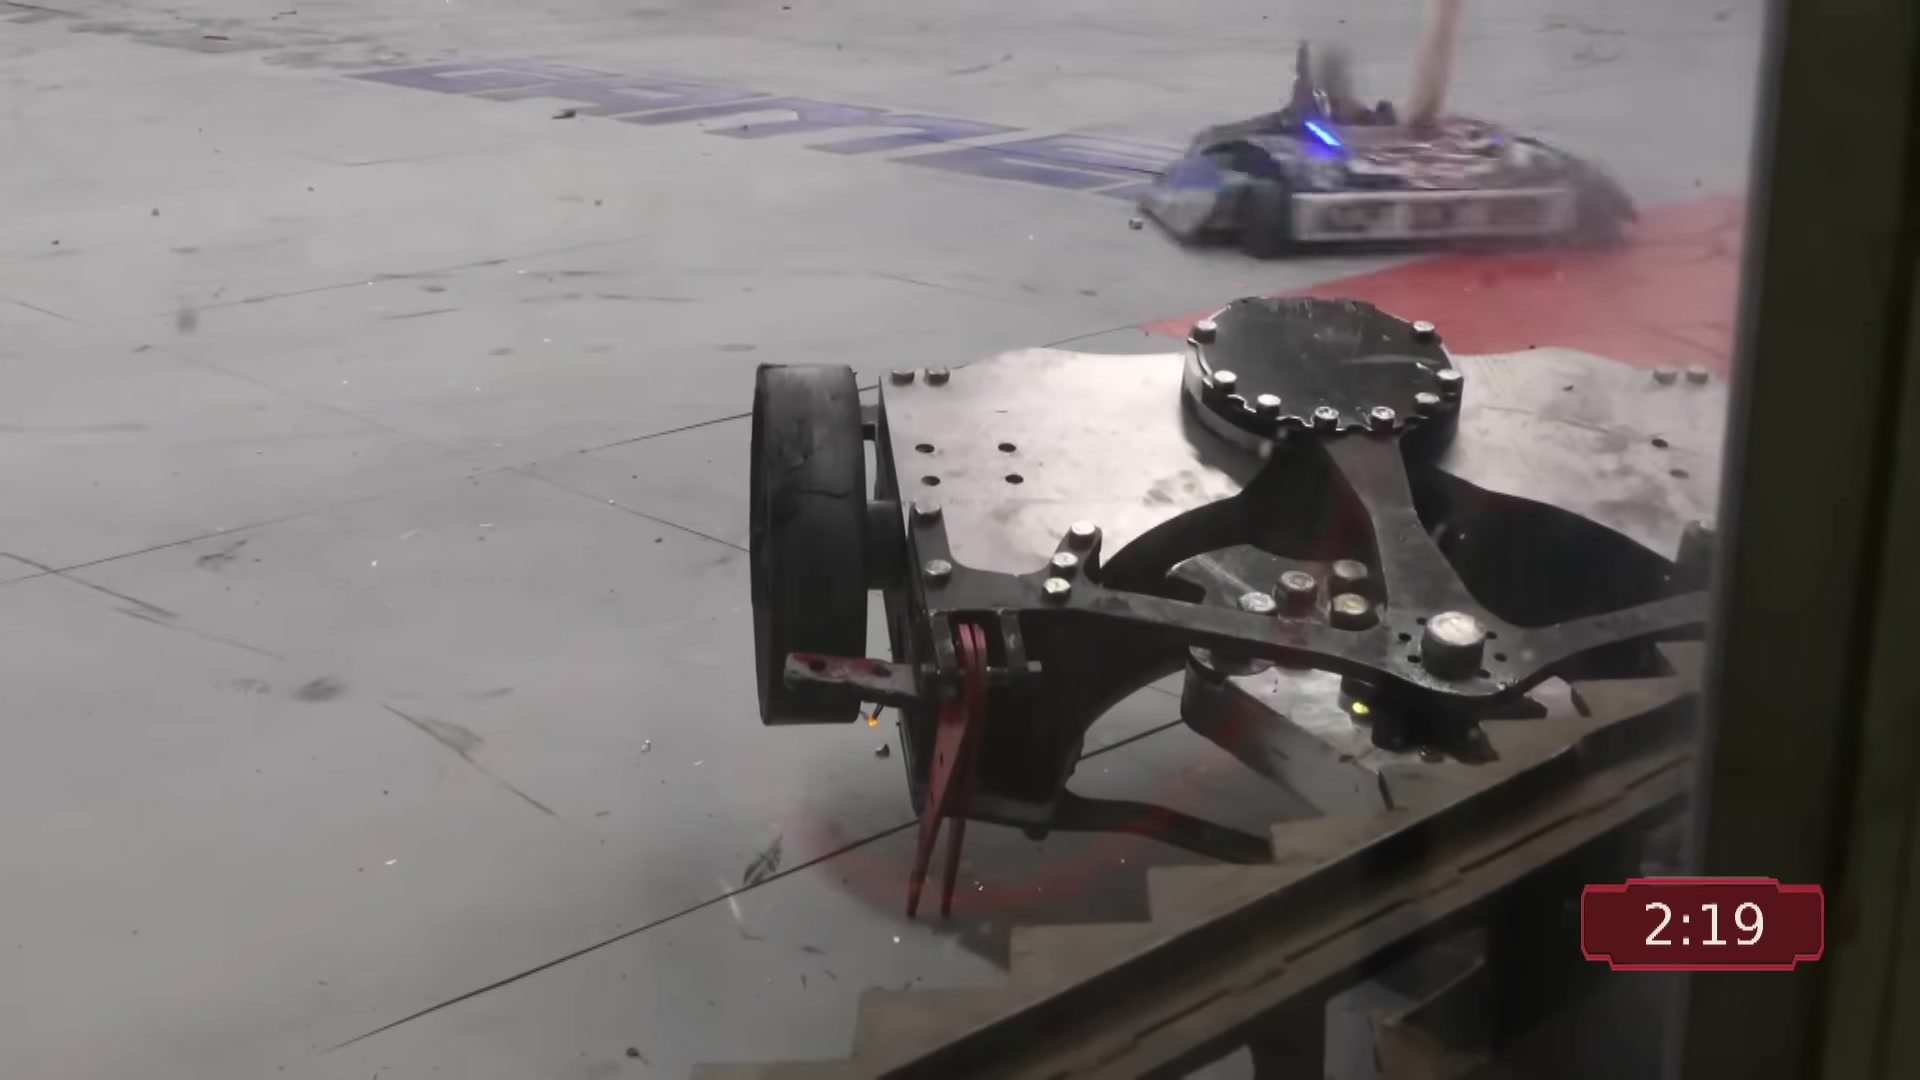combatbot: (753, 290, 1720, 841), (1135, 38, 1635, 245)
